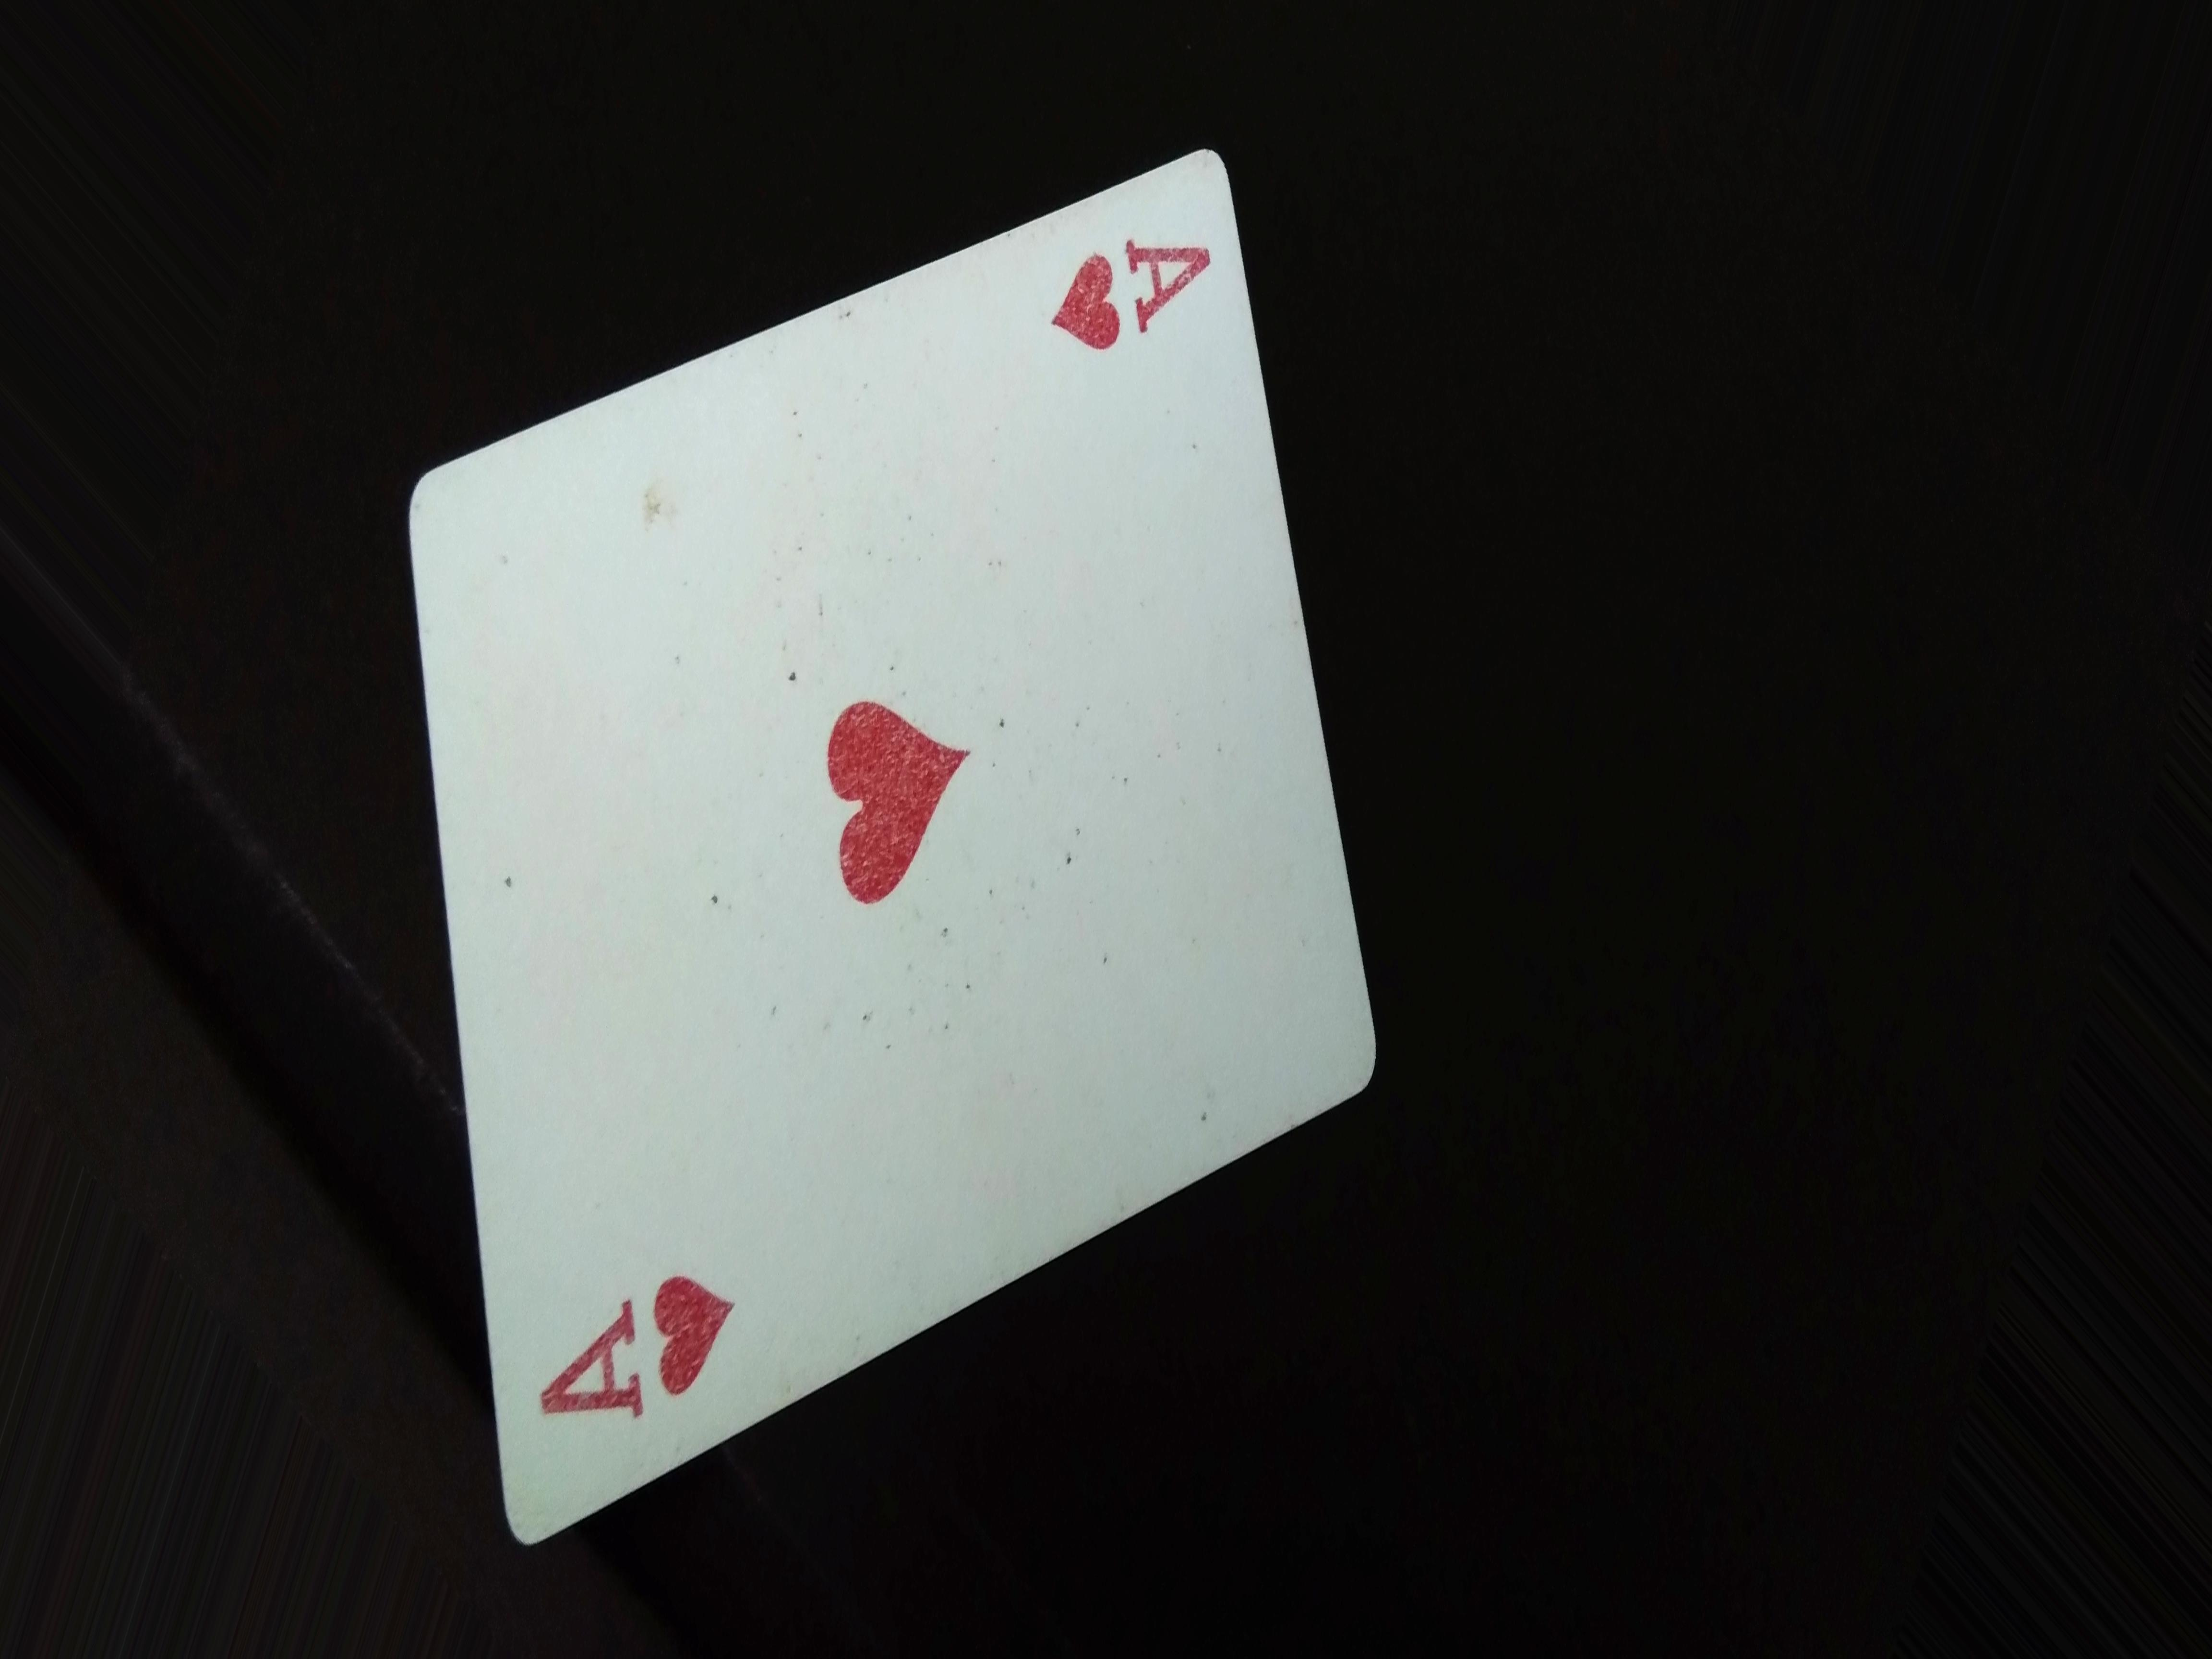AH: (538, 1241, 733, 1459)
